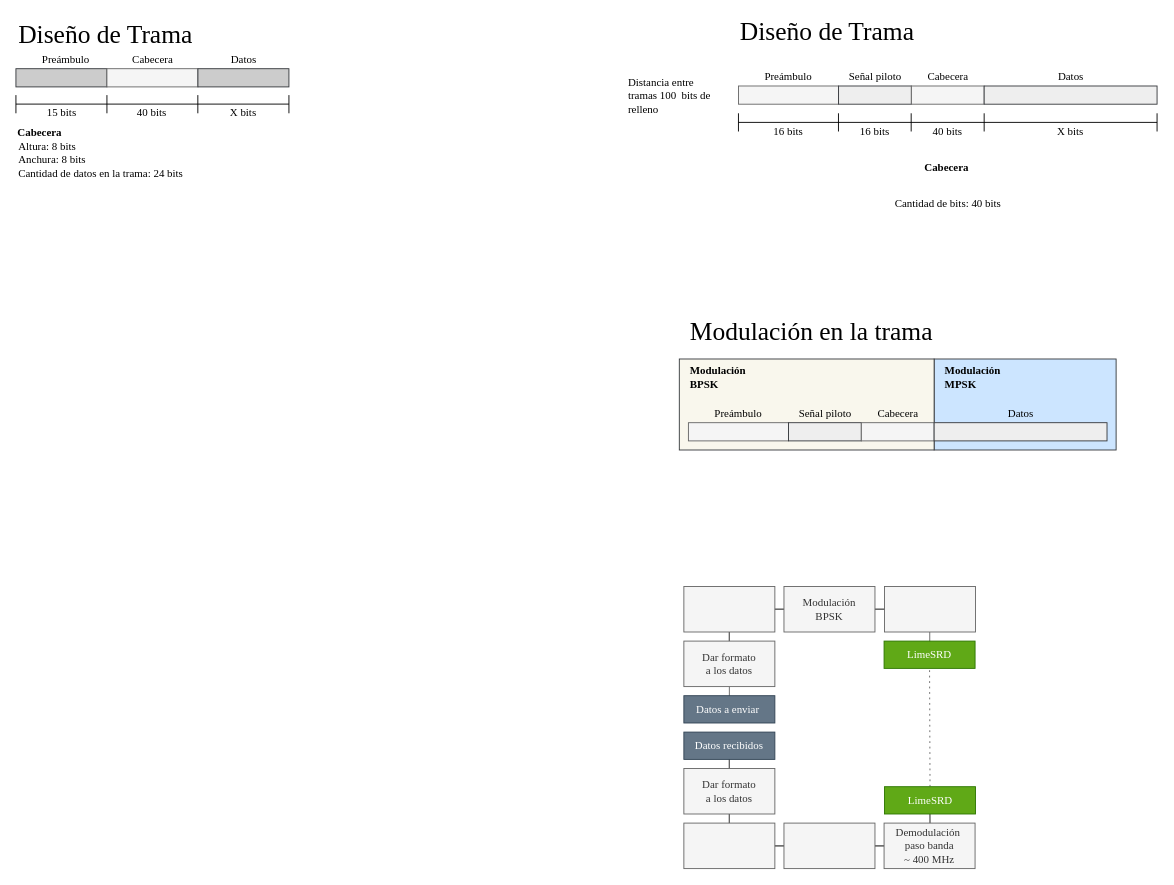
This 1174x885 diagram has some shape labels left out. Here are the shapes that lost their labels. From the top down, the centre of each, then its label:
(729,609): Codificación de canal Código Hamming
(930,609): Modulación paso banda ~ 400 MHz
(729,845): Decodificación de canal Código Hamming
(829,845): Demodulación BPSK
